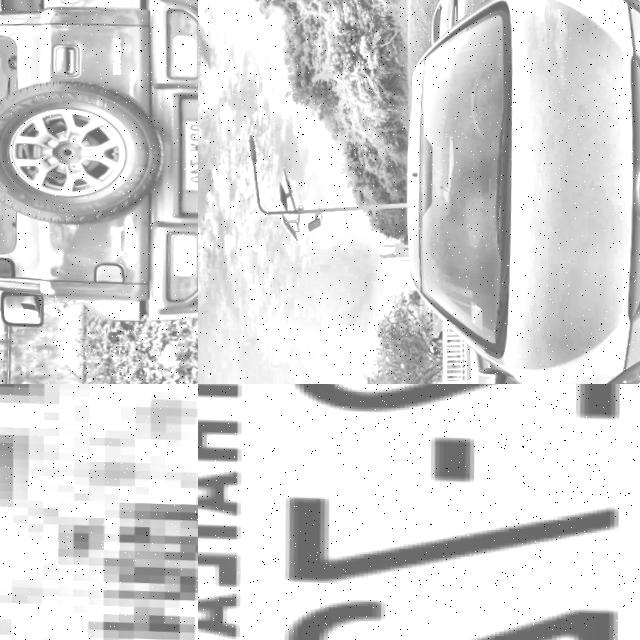license-plate: (198, 384, 640, 640), (0, 384, 198, 640), (174, 118, 198, 195)
